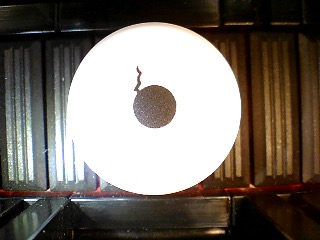CRACK: (65, 21, 242, 196)
